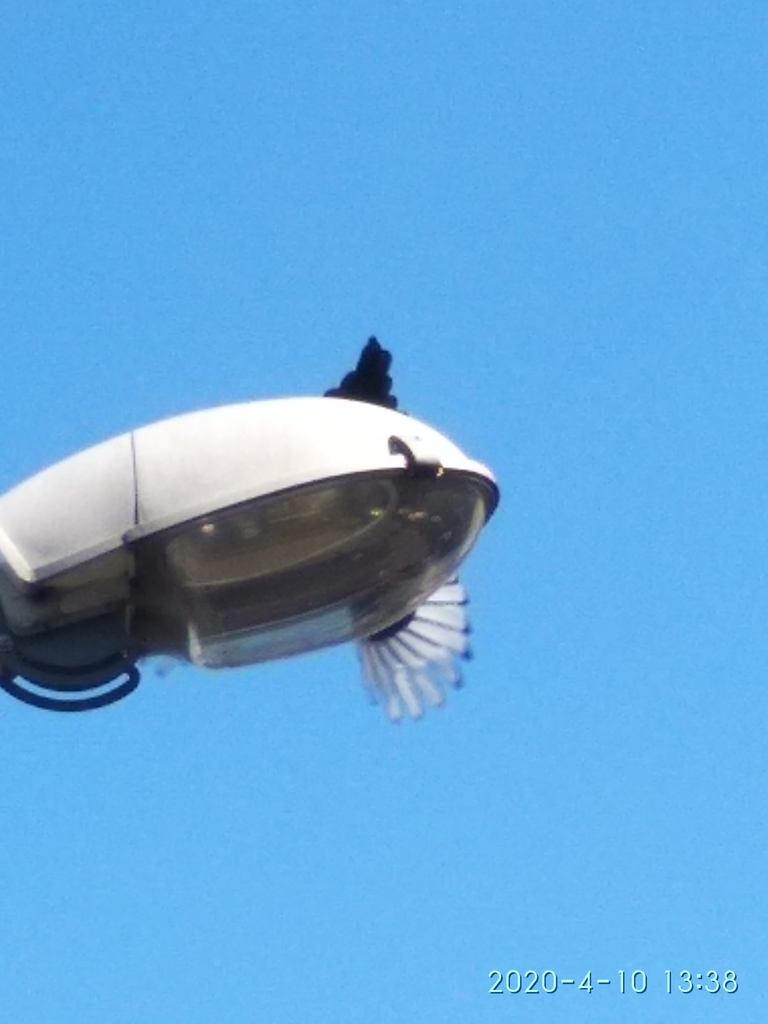Pica_pica: (322, 334, 475, 726)
